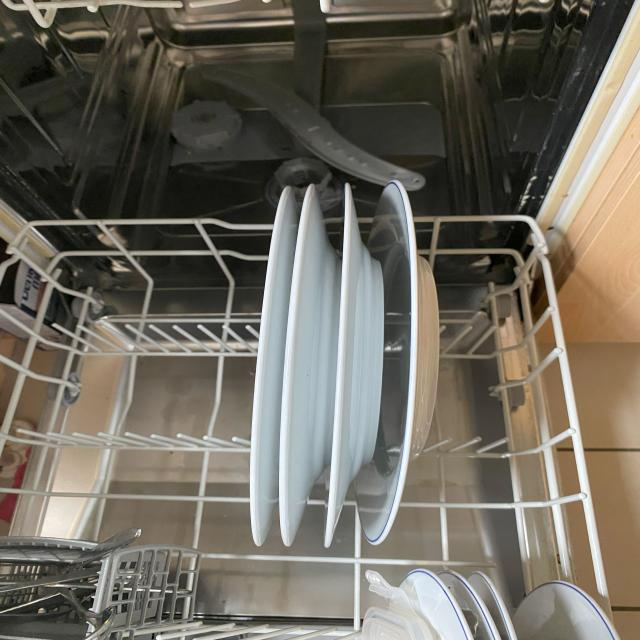empty_slot: (35, 241, 251, 538), (448, 245, 537, 525)
